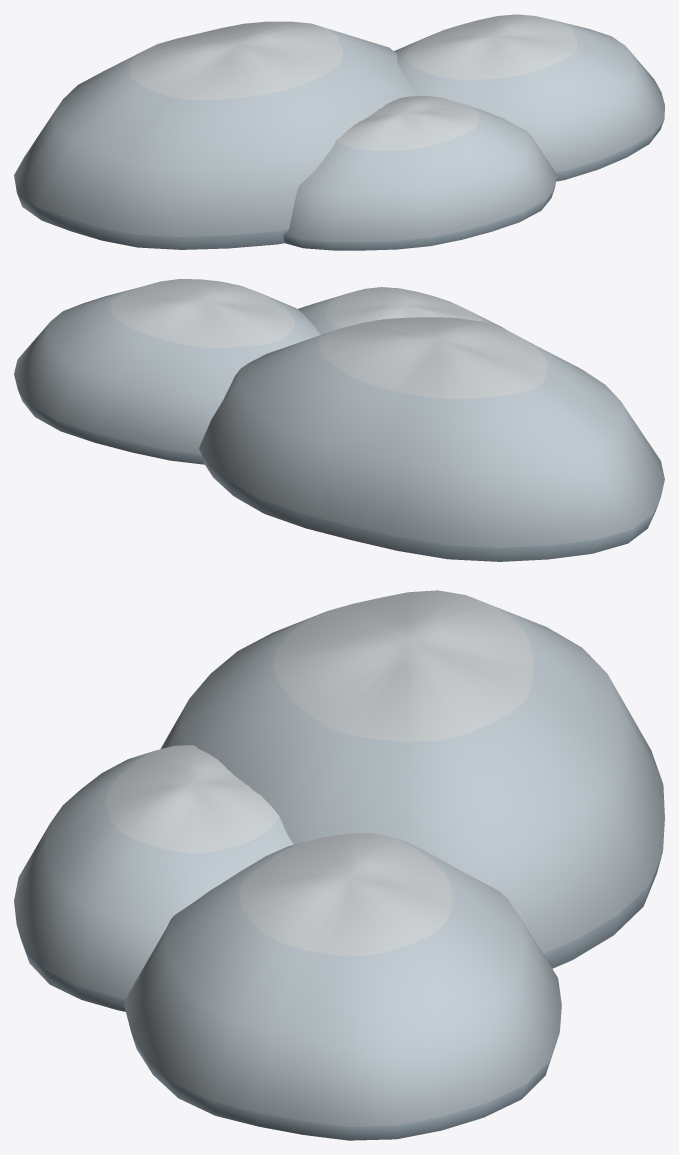
File: Environment_Snow_DriftCluster_001.glb
3 views of the same model, one above another, from view 1: azimuth 30°, elevation 25°; view 2: azimuth 150°, elevation 25°; view 3: azimuth 270°, elevation 25° (orthographic). The views are drawn at different scales.
Visible parts, largest first — view 1: SN_SnowDrift_Body; view 2: SN_SnowDrift_Body; view 3: SN_SnowDrift_Body.
Part boxes in pixels (<box>): SN_SnowDrift_Body: <box>14,14,664,250</box>; SN_SnowDrift_Body: <box>14,279,664,561</box>; SN_SnowDrift_Body: <box>14,590,664,1140</box>.
Size of the model in its own units: 4.55 by 0.936 by 2.74.
